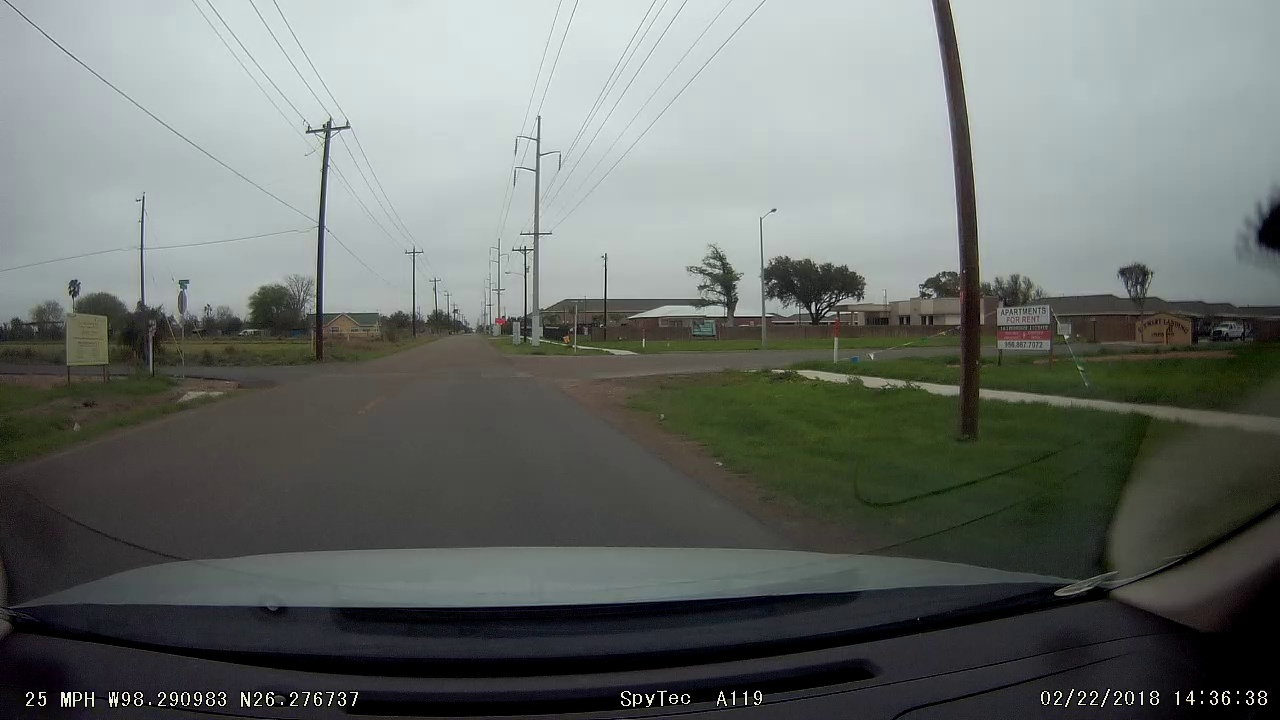blurredLine: (353, 383, 391, 421)
